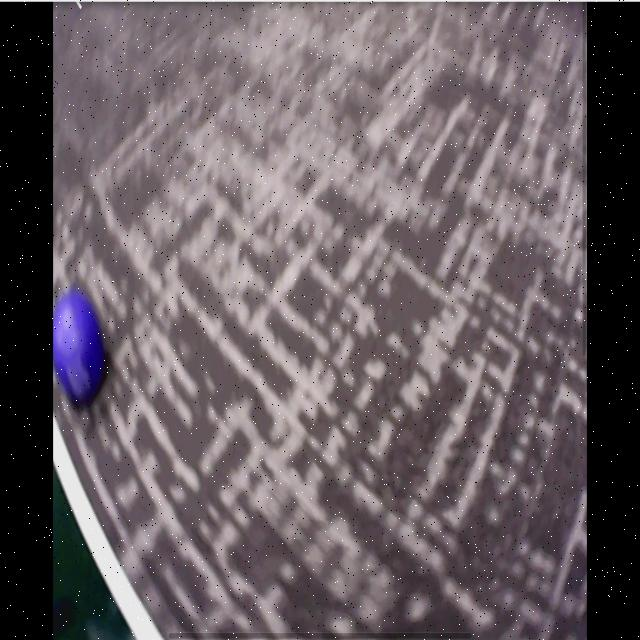ball: (55, 291, 107, 401)
